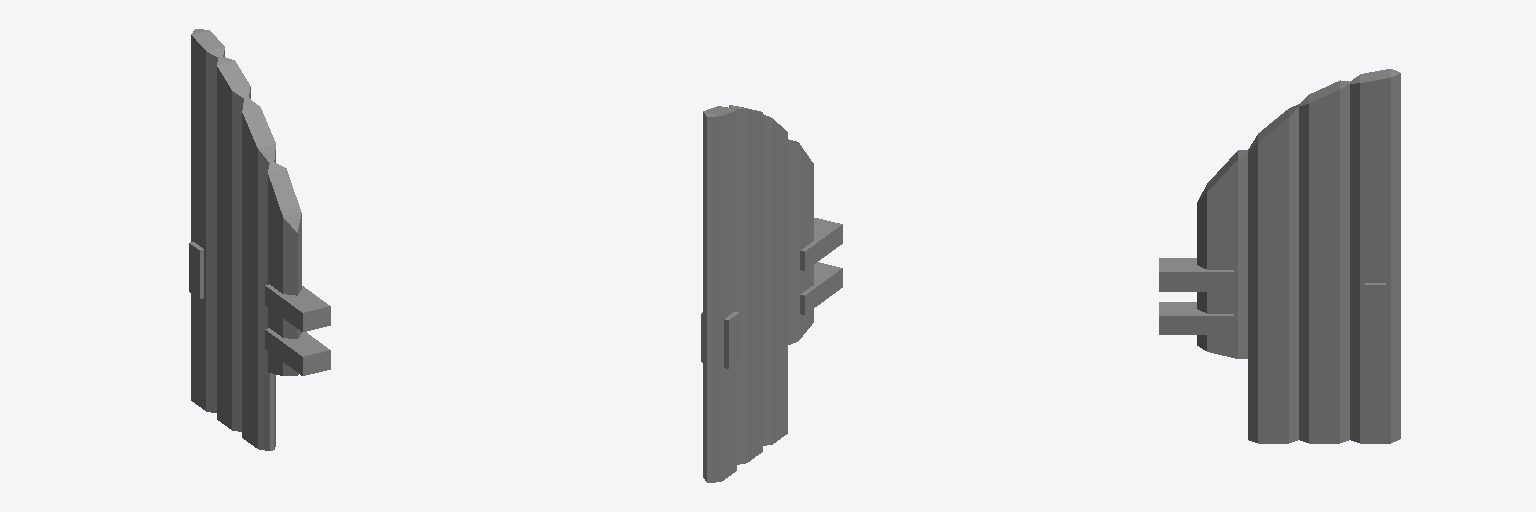
File: Door.obj
3 renders of one model, left to right at view 1: azimuth 30°, elevation 25°; view 2: azimuth 150°, elevation 25°; view 3: azimuth 270°, elevation 25°, orthographic.
Parts seen in each view (by area): view 1: Palette; view 2: Palette; view 3: Palette.
Part boxes in pixels (x1,y1,x2,y2): Palette: (189, 29, 330, 450); Palette: (701, 105, 842, 482); Palette: (1159, 69, 1400, 443).
Size of the model in its own units: 0.3 by 3.75 by 2.26.